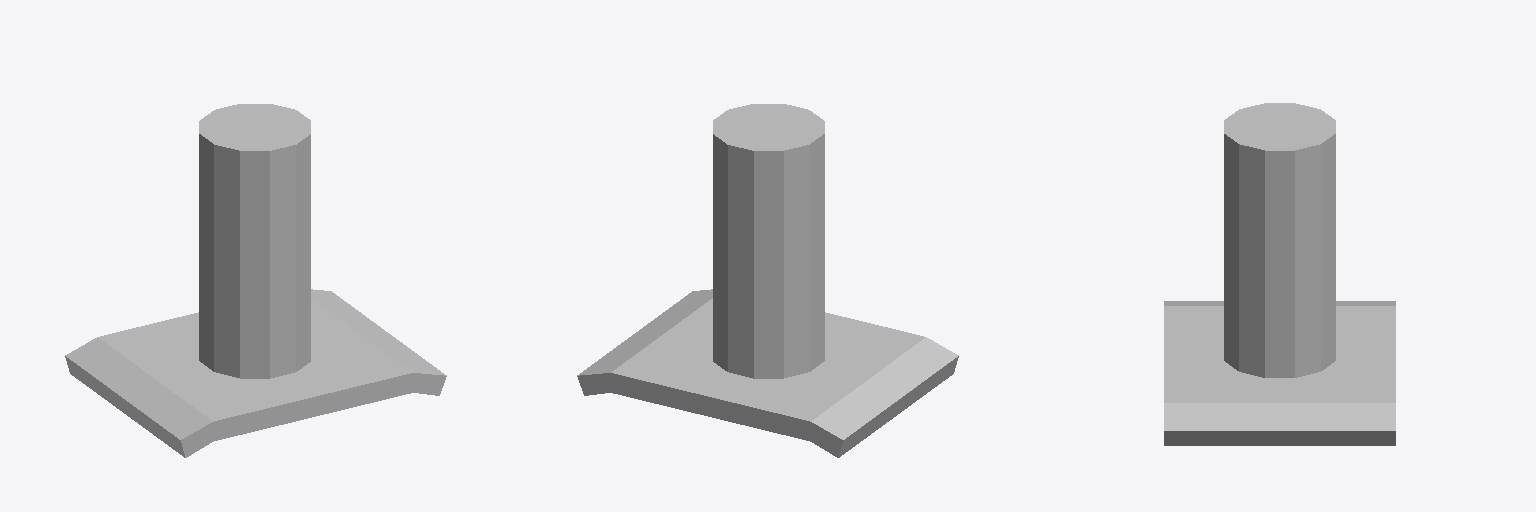
Rendered from LV_smoke.obj.
3 views of the same model, side by side, from view 1: azimuth 30°, elevation 25°; view 2: azimuth 150°, elevation 25°; view 3: azimuth 270°, elevation 25° (orthographic).
Parts seen in each view (by area): view 1: 371; view 2: 371; view 3: 371.
Part boxes in pixels (x1,y1,x2,y2): 371: (65,104,446,457); 371: (577,104,958,457); 371: (1164,103,1395,445).
Bounding box in the file's own units: 1.08 × 1 × 0.8142.